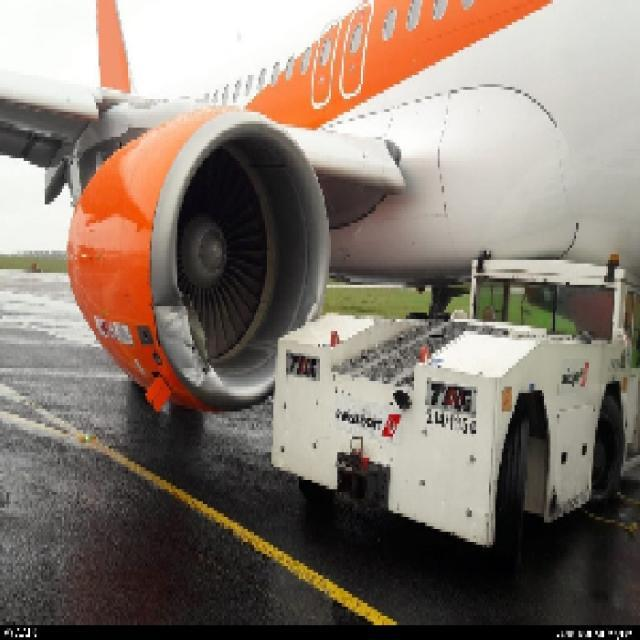crack: (179, 299, 213, 376)
dent: (303, 290, 329, 322)
